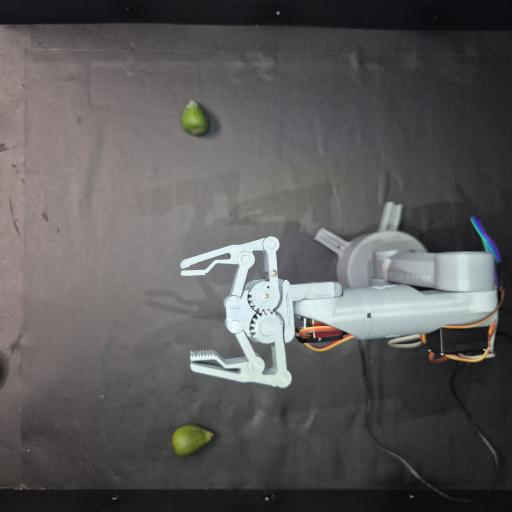higo: (172, 425, 213, 456), (181, 100, 209, 136)
